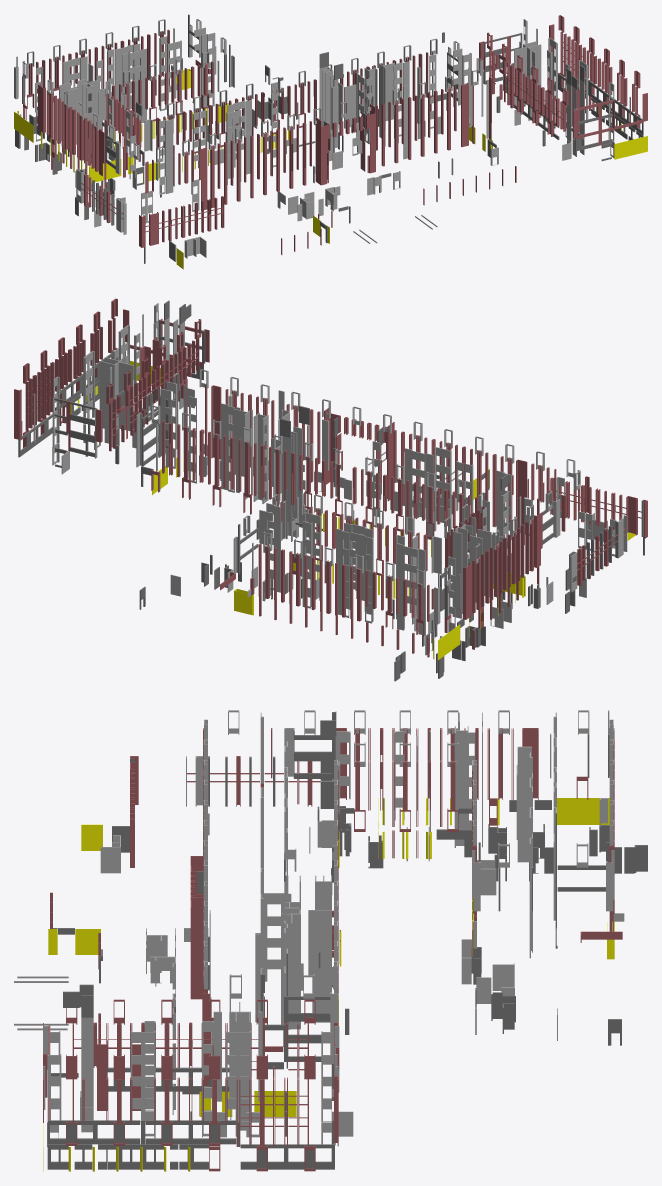
Rendered from teaching-building_9.gltf.
The picture shows the model from 3 angles, top to bottom: view 1: azimuth 30°, elevation 25°; view 2: azimuth 150°, elevation 25°; view 3: azimuth 270°, elevation 25°; orthographic projection. The views are drawn at different scales.
Parts seen in each view (by area): view 1: 常规 - 50mm 2 [599760], 常规 - 50mm [357378]; view 2: no part large enough to name; view 3: 常规 - 50mm [357198], 常规 - 50mm [314921].
Part boxes in pixels (x1,y1,x2,y2): 常规 - 50mm 2 [599760]: (614,136,647,159); 常规 - 50mm [357378]: (89,159,121,183); 常规 - 50mm [357198]: (557,798,599,824); 常规 - 50mm [314921]: (254,1091,296,1116).
Bounding box in the file's own units: 153 × 31.7 × 112.
